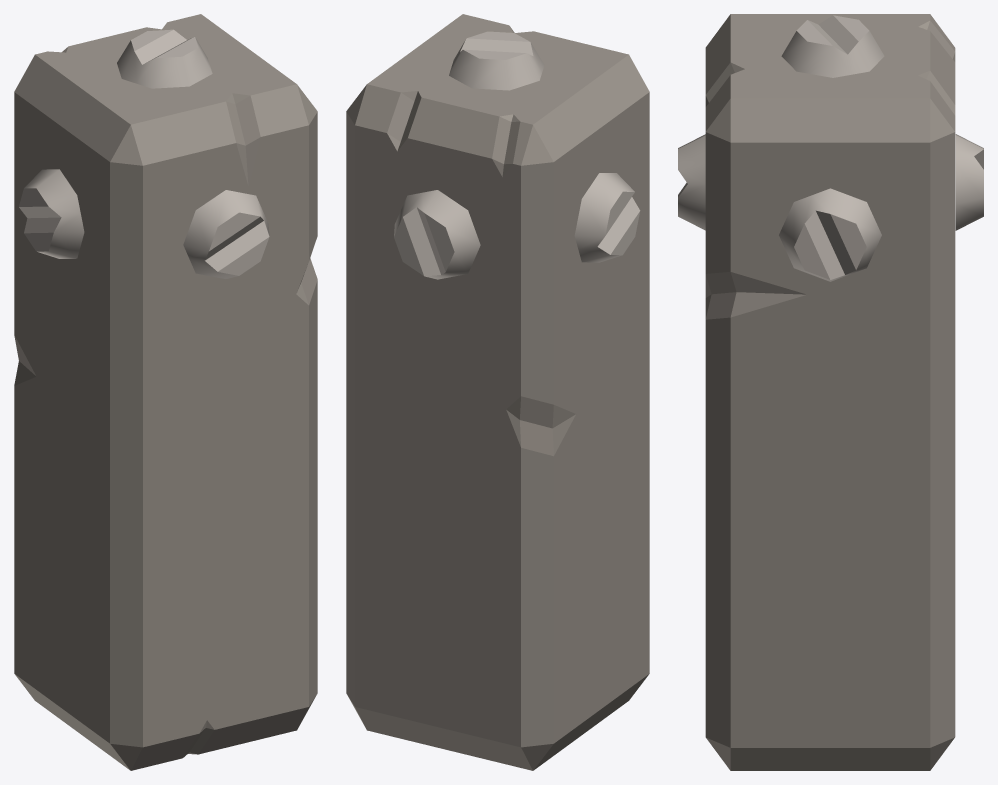
File: m_dec_dung_poleMetalSmall.fbx
3 renders of one model, left to right at view 1: azimuth 30°, elevation 25°; view 2: azimuth 150°, elevation 25°; view 3: azimuth 270°, elevation 25°, orthographic. The views are drawn at different scales.
Parts seen in each view (by area): view 1: m_dec_dung_poleMetalSmall; view 2: m_dec_dung_poleMetalSmall; view 3: m_dec_dung_poleMetalSmall.
Boxes of the visible parts, <box> form: m_dec_dung_poleMetalSmall: <box>14,14,317,770</box>; m_dec_dung_poleMetalSmall: <box>346,14,649,770</box>; m_dec_dung_poleMetalSmall: <box>678,14,983,770</box>.
Size of the model in its own units: 0.8243 by 2.08 by 0.8243.
